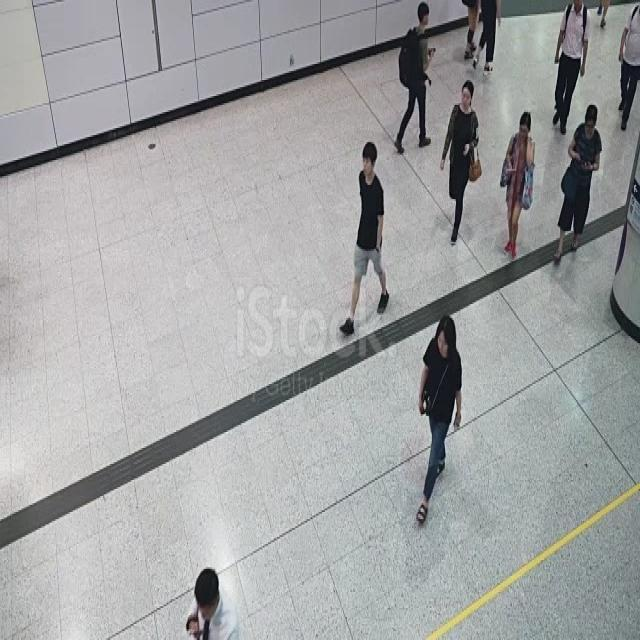person: (416, 306, 466, 522), (341, 141, 389, 347), (556, 101, 604, 262), (442, 79, 482, 254), (498, 108, 538, 254), (396, 0, 432, 157), (181, 550, 241, 640), (556, 0, 590, 134), (469, 0, 505, 77), (619, 0, 640, 129), (458, 0, 480, 61)
